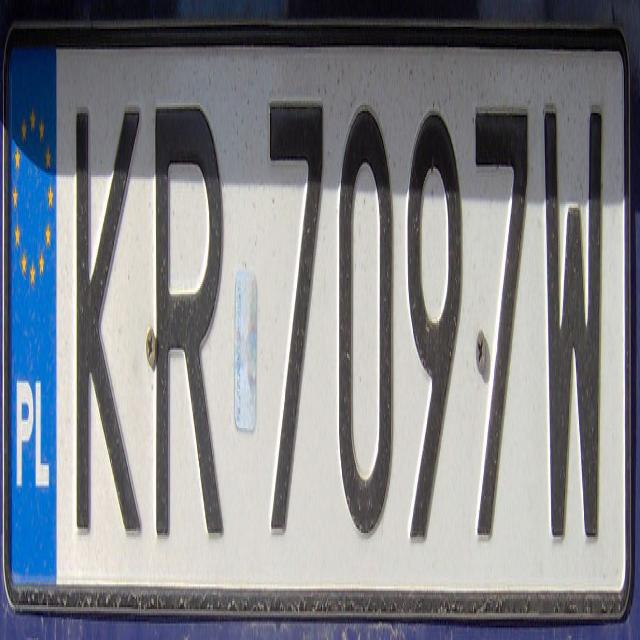pl_license_plate: (9, 47, 624, 593)
